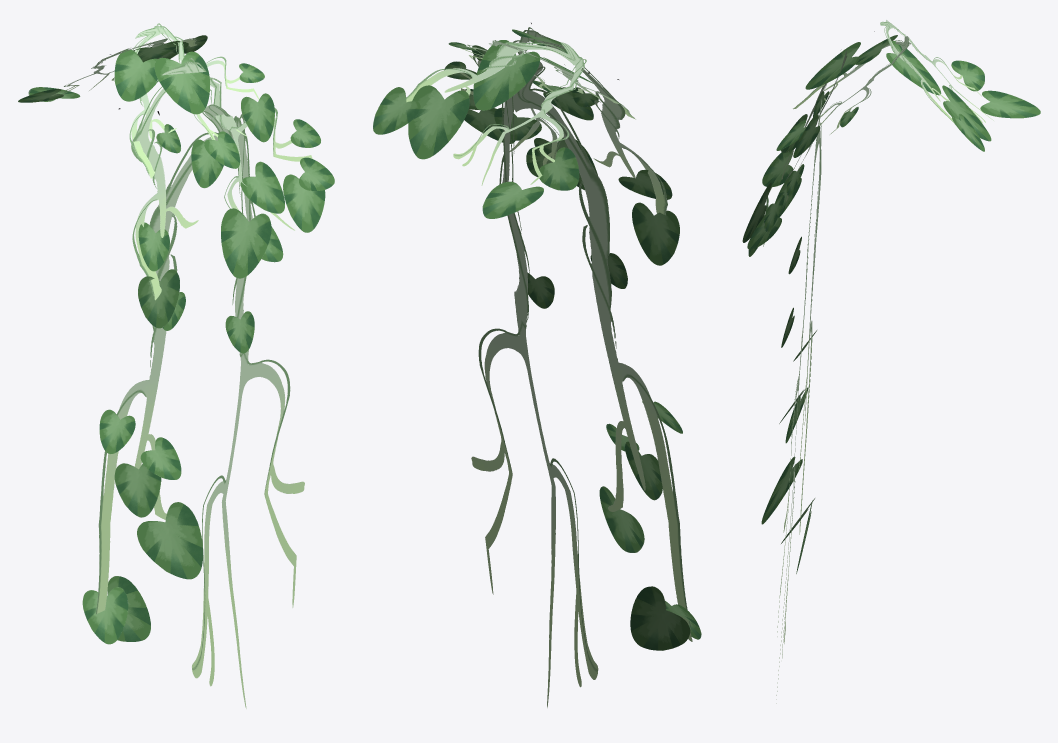
File: vine (1).fbx
The picture shows the model from 3 angles, left to right: view 1: azimuth 30°, elevation 25°; view 2: azimuth 150°, elevation 25°; view 3: azimuth 270°, elevation 25°; orthographic projection. The views are drawn at different scales.
Parts seen in each view (by area): view 1: vine; view 2: vine; view 3: vine.
Part boxes in pixels (x1,y1,x2,y2): vine: (18, 23, 334, 708); vine: (373, 23, 701, 707); vine: (742, 20, 1040, 703).
Size of the model in its own units: 0.5771 by 1.52 by 0.6119.
1 material, 1 textured.
